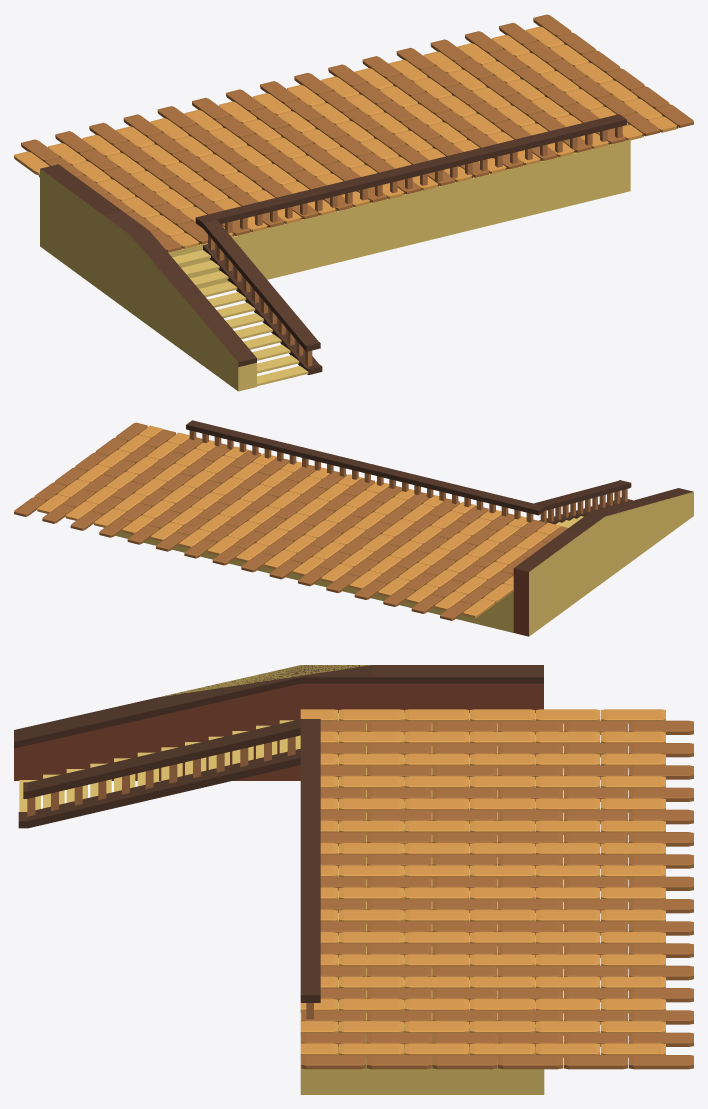
The model's file is StairCaseRight.glb.
3 views of the same model, one above another, from view 1: azimuth 30°, elevation 25°; view 2: azimuth 150°, elevation 25°; view 3: azimuth 270°, elevation 25° (orthographic). The views are drawn at different scales.
Parts seen in each view (by area): view 1: Cube.120; view 2: Cube.120; view 3: Cube.120.
Boxes of the visible parts, x1,y1,x2,y2 form: Cube.120: [14, 14, 693, 391]; Cube.120: [14, 420, 693, 636]; Cube.120: [14, 665, 693, 1094].
Bounding box in the file's own units: 60.8 × 8.26 × 47.44.
